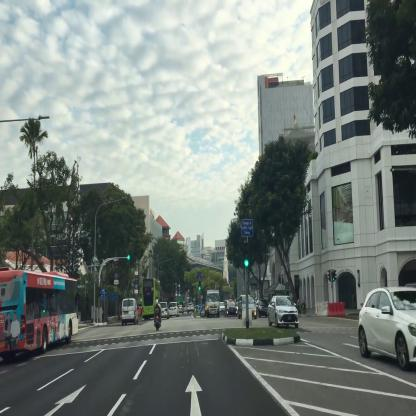green_traffic_light: (244, 244, 248, 268), (126, 254, 136, 260)
